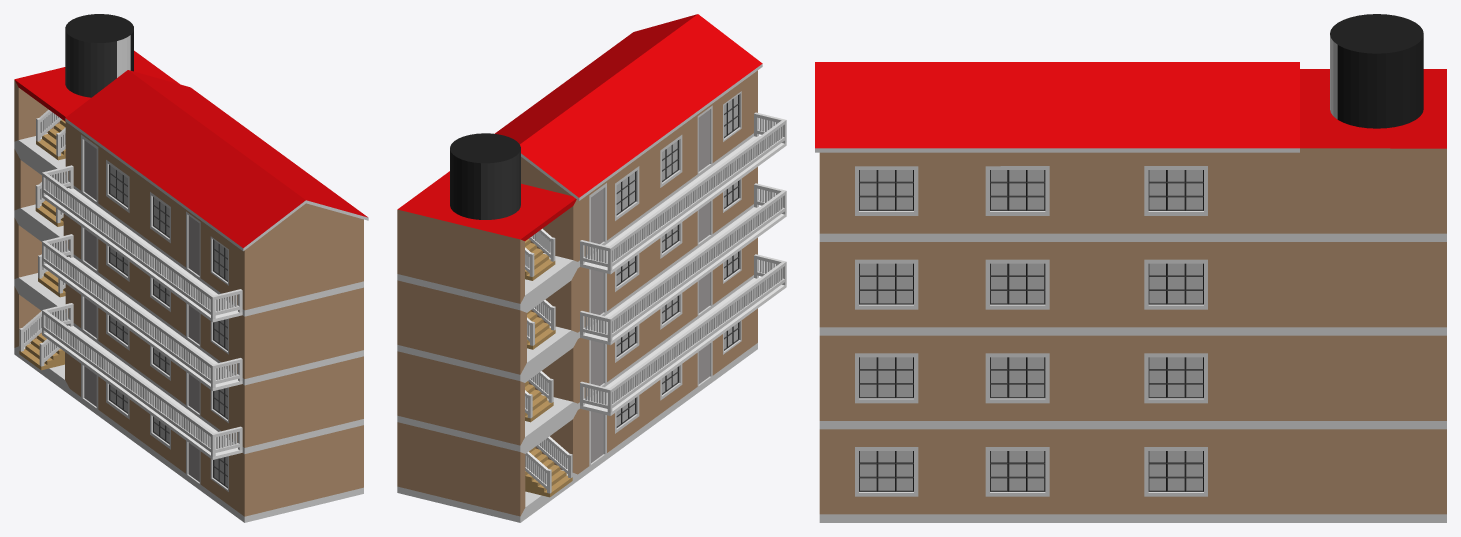
File: Apartment 3.fbx
The picture shows the model from 3 angles, left to right: view 1: azimuth 30°, elevation 25°; view 2: azimuth 150°, elevation 25°; view 3: azimuth 270°, elevation 25°; orthographic projection. The views are drawn at different scales.
Parts seen in each view (by area): view 1: building_003; view 2: building_003; view 3: building_003.
Part boxes in pixels (x1,y1,x2,y2): building_003: (14,14,368,522); building_003: (397,14,786,522); building_003: (815,14,1446,522).
Size of the model in its own units: 510 by 1056 by 1346.
